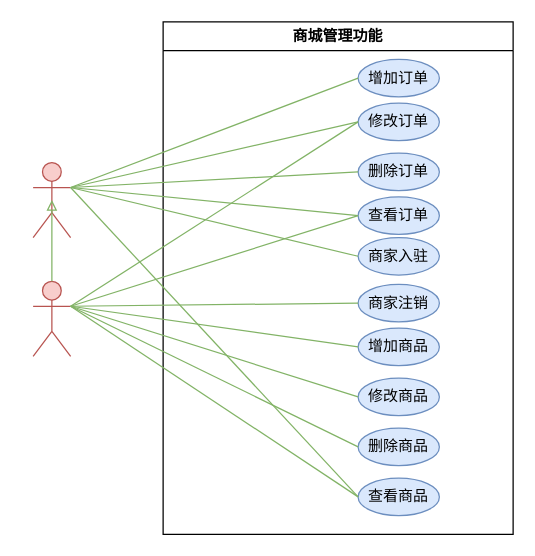
This 535x556 diagram has some shape labels left out. Each missing label, with the centre of its shape:
商家: the point at 51,318
普通用户: the point at 51,199
